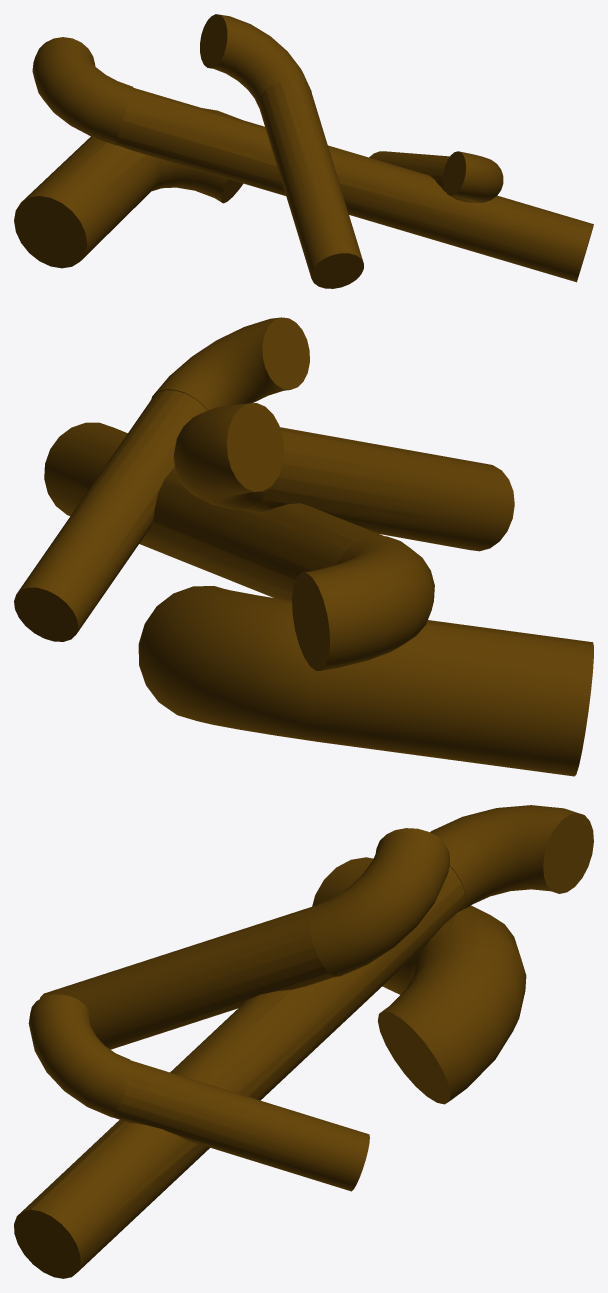
The model's file is 48_pipe_pile3.fbx.
The picture shows the model from 3 angles, top to bottom: view 1: azimuth 30°, elevation 25°; view 2: azimuth 150°, elevation 25°; view 3: azimuth 270°, elevation 25°; orthographic projection. The views are drawn at different scales.
Visible parts, largest first — view 1: pCylinder199; view 2: pCylinder199; view 3: pCylinder199.
Boxes of the visible parts, x1,y1,x2,y2 form: pCylinder199: [14, 14, 593, 288]; pCylinder199: [14, 317, 593, 776]; pCylinder199: [14, 805, 593, 1278].
Bounding box in the file's own units: 1.29 × 0.598 × 1.05.
